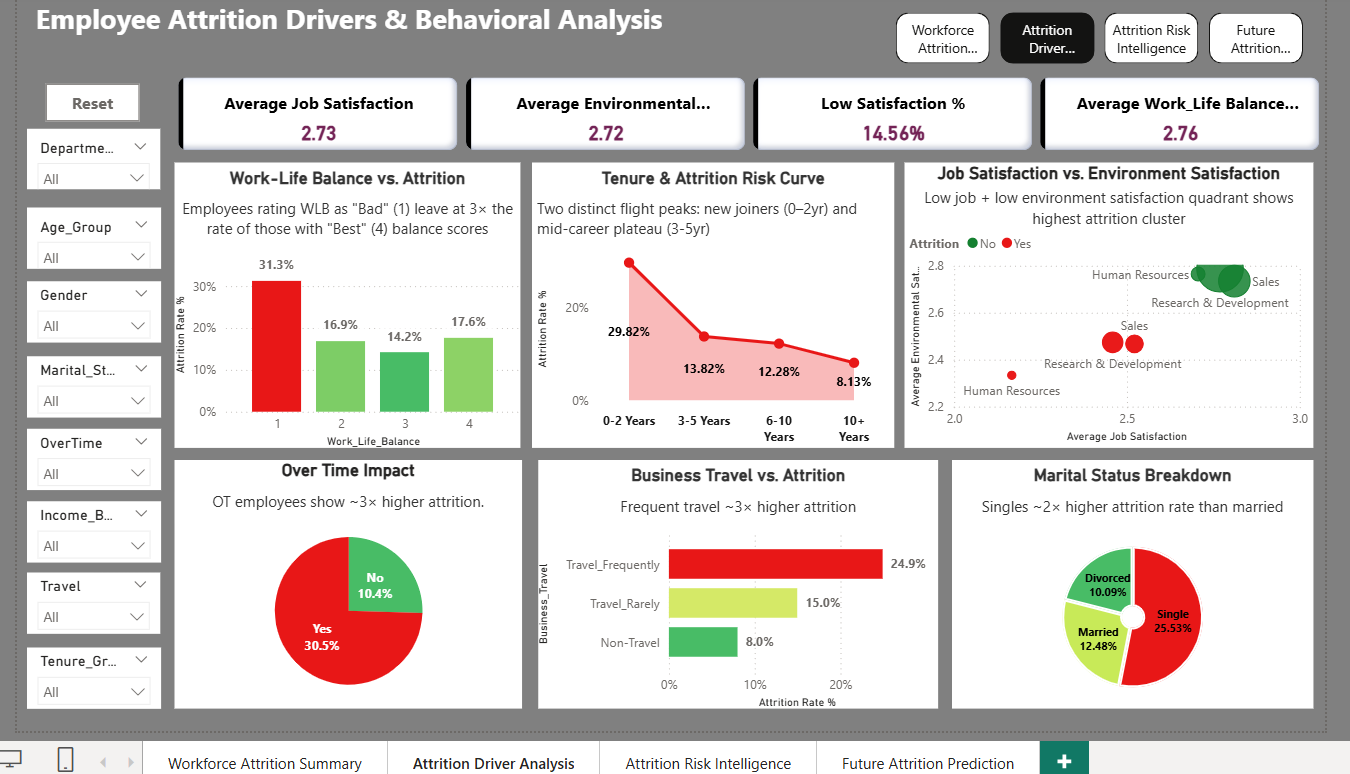

Layout of this report page (visuals, bound fields, positions):
{"tool":"powerbi","page":{"name":"Attrition Driver Analysis","canvas":[1280,720],"ordinal":1},"visuals":[{"type":"textbox","box":[13.5,0,643.2,53.8],"z":0},{"type":"cardVisual","fields":{"Data":["_Measure.Average Job Satisfaction","_Measure.Average Environmental Satisfaction","_Measure.Low Satisfaction %","_Measure.Average Work_Life Balance Score"]},"box":[152.5,76.2,1126.5,81.2],"z":1000},{"type":"slicer","title":"All Department","fields":{"Values":["Attrition.Department"]},"box":[10,131,130,59],"z":2000},{"type":"slicer","fields":{"Values":["Attrition.Tenure_Group"]},"box":[10,638.3,130.8,59.9],"z":3000},{"type":"slicer","fields":{"Values":["Attrition.Business_Travel"]},"box":[10,564.9,130,59.9],"z":4000},{"type":"slicer","fields":{"Values":["Attrition.Income_Band"]},"box":[10,495.2,130.8,59.9],"z":5000},{"type":"slicer","fields":{"Values":["Attrition.Age_Group"]},"box":[10,207.9,130.8,59.9],"z":6000},{"type":"slicer","fields":{"Values":["Attrition.Gender"]},"box":[10,280,130.8,59.9],"z":7000},{"type":"slicer","fields":{"Values":["Attrition.Marital_Status"]},"box":[10,353.4,130.8,59.9],"z":8000},{"type":"slicer","fields":{"Values":["Attrition.OverTime"]},"box":[10,424.3,130.8,59.9],"z":9000},{"type":"actionButton","box":[28.1,86.8,91.7,36.7],"z":10000},{"type":"barChart","title":"Business Travel vs. Attrition","fields":{"Category":["Attrition.Business_Travel"],"Y":["_Measure.Attrition Rate %"]},"box":[509.9,454.9,391.3,243.3],"z":11000},{"type":"donutChart","title":"Marital Status Breakdown","fields":{"Category":["Attrition.Marital_Status"],"Y":["_Measure.Attrition Rate %"]},"box":[914.7,454.9,353.4,243.3],"z":12000},{"type":"lineClusteredColumnComboChart","title":"Work-Life Balance vs. Attrition","fields":{"Y":["_Measure.Attrition Rate %"],"Category":["Attrition.Work_Life_Balance"]},"box":[154.1,163.9,338.7,278.8],"z":13000},{"type":"stackedAreaChart","title":"Tenure & Attrition Risk Curve","fields":{"Category":["Attrition.Tenure_Group"],"Y":["_Measure.Attrition Rate %"]},"box":[503.8,163.9,354.6,278.8],"z":14000},{"type":"scatterChart","title":"Job Satisfaction vs. Environment Satisfaction","fields":{"X":["_Measure.Average Job Satisfaction"],"Y":["_Measure.Average Environmental Satisfaction"],"Series":["Attrition.Attrition"],"Size":["_Measure.Total Employees"],"Category":["Attrition.Department"]},"box":[868.2,163.9,399.9,278.8],"z":15000},{"type":"pageNavigator","box":[859.1,16.8,398.7,50.5],"z":17000},{"type":"pieChart","title":"Over Time Impact","fields":{"Category":["Attrition.OverTime"],"Y":["_Measure.Attrition Rate %"]},"box":[154.1,454.9,339.9,243.3],"z":18000}]}

Visuals, with their boxes on the page's 1280x720 design canvas (x1, y1, x2, y2). These are canvas units, not pixel positions in the 1350x774 screenshot, which may show the page scaled, cropped or inside an application window:
textbox: locate(14, 0, 657, 54)
cardVisual - _Measure.Average Job Satisfaction x _Measure.Average Environmental Satisfaction: locate(152, 76, 1279, 157)
"All Department" slicer: locate(10, 131, 140, 190)
slicer - Attrition.Tenure_Group: locate(10, 638, 141, 698)
slicer - Attrition.Business_Travel: locate(10, 565, 140, 625)
slicer - Attrition.Income_Band: locate(10, 495, 141, 555)
slicer - Attrition.Age_Group: locate(10, 208, 141, 268)
slicer - Attrition.Gender: locate(10, 280, 141, 340)
slicer - Attrition.Marital_Status: locate(10, 353, 141, 413)
slicer - Attrition.OverTime: locate(10, 424, 141, 484)
actionButton: locate(28, 87, 120, 124)
"Business Travel vs. Attrition" barChart: locate(510, 455, 901, 698)
"Marital Status Breakdown" donutChart: locate(915, 455, 1268, 698)
"Work-Life Balance vs. Attrition" lineClusteredColumnComboChart: locate(154, 164, 493, 443)
"Tenure & Attrition Risk Curve" stackedAreaChart: locate(504, 164, 858, 443)
"Job Satisfaction vs. Environment Satisfaction" scatterChart: locate(868, 164, 1268, 443)
pageNavigator: locate(859, 17, 1258, 67)
"Over Time Impact" pieChart: locate(154, 455, 494, 698)
